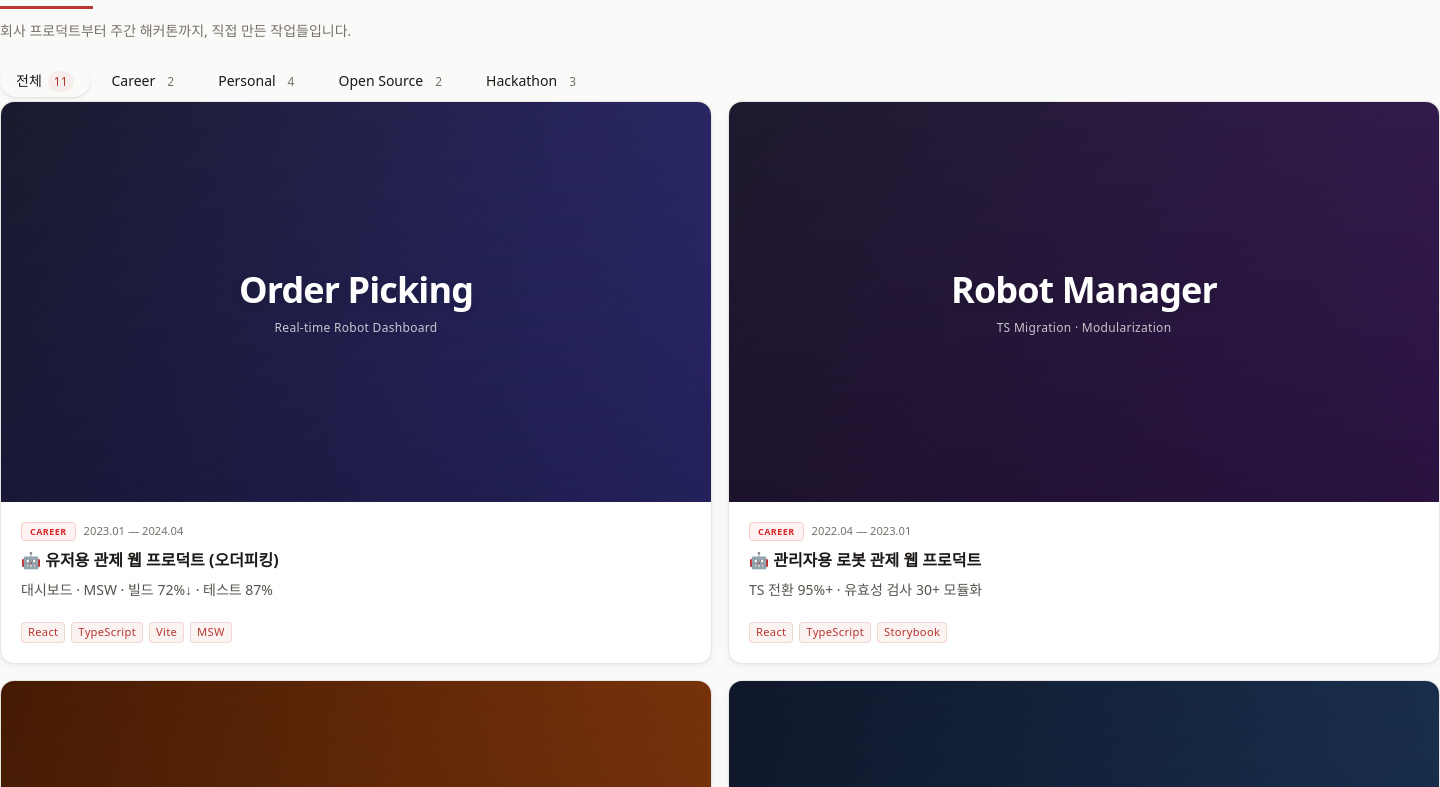
it: WorkSection › opens an internal work detail and closes it with Escape
This screenshot has width=1440, height=787.
(page scrolled)
Click the button named "🤖 유저용 관제 웹 프로덕트 (오더피킹)" at [356, 382], box [0,101,712,664]
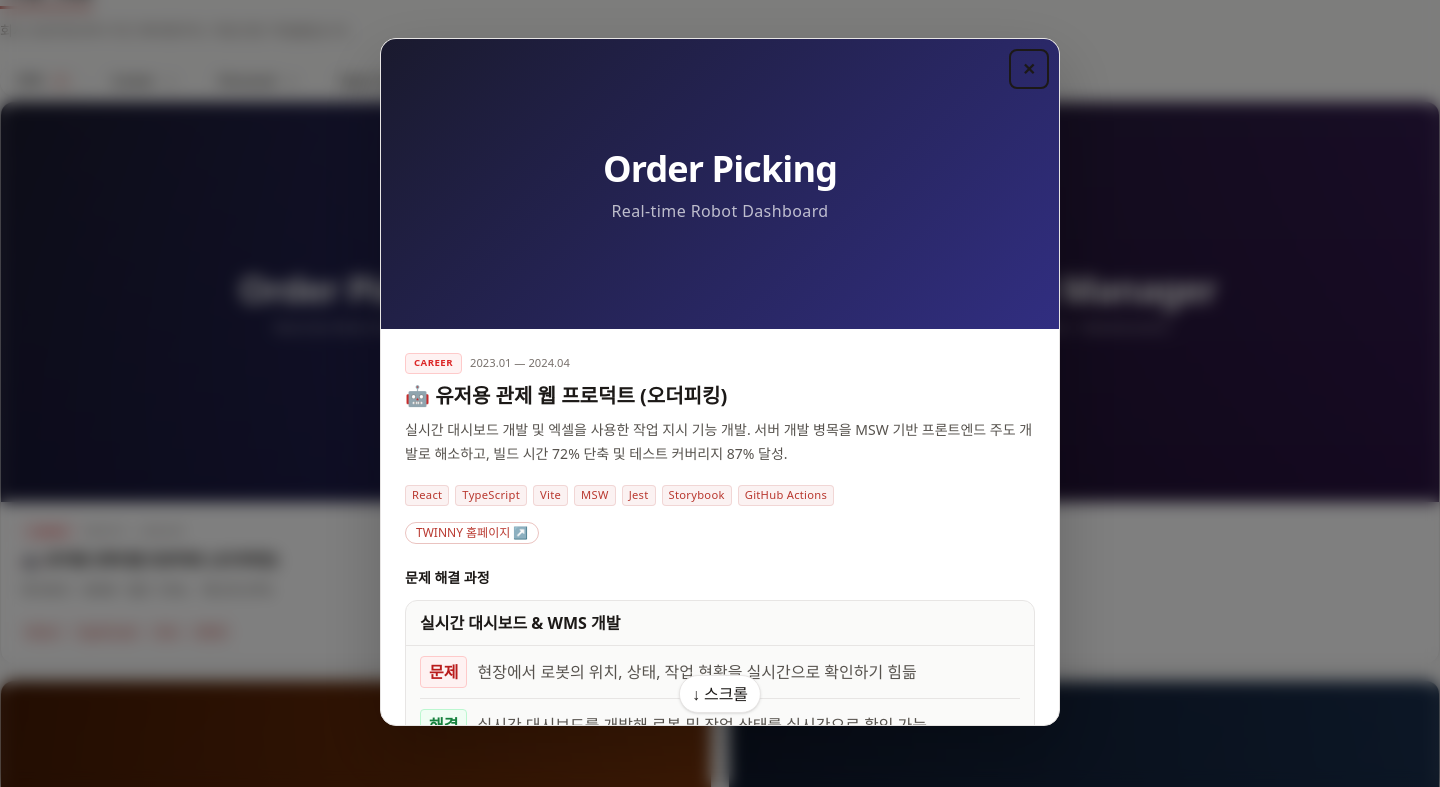
Check: the heading "🤖 유저용 관제 웹 프로덕트 (오더피킹)" is shown, box [405,382,727,409]
Press Escape
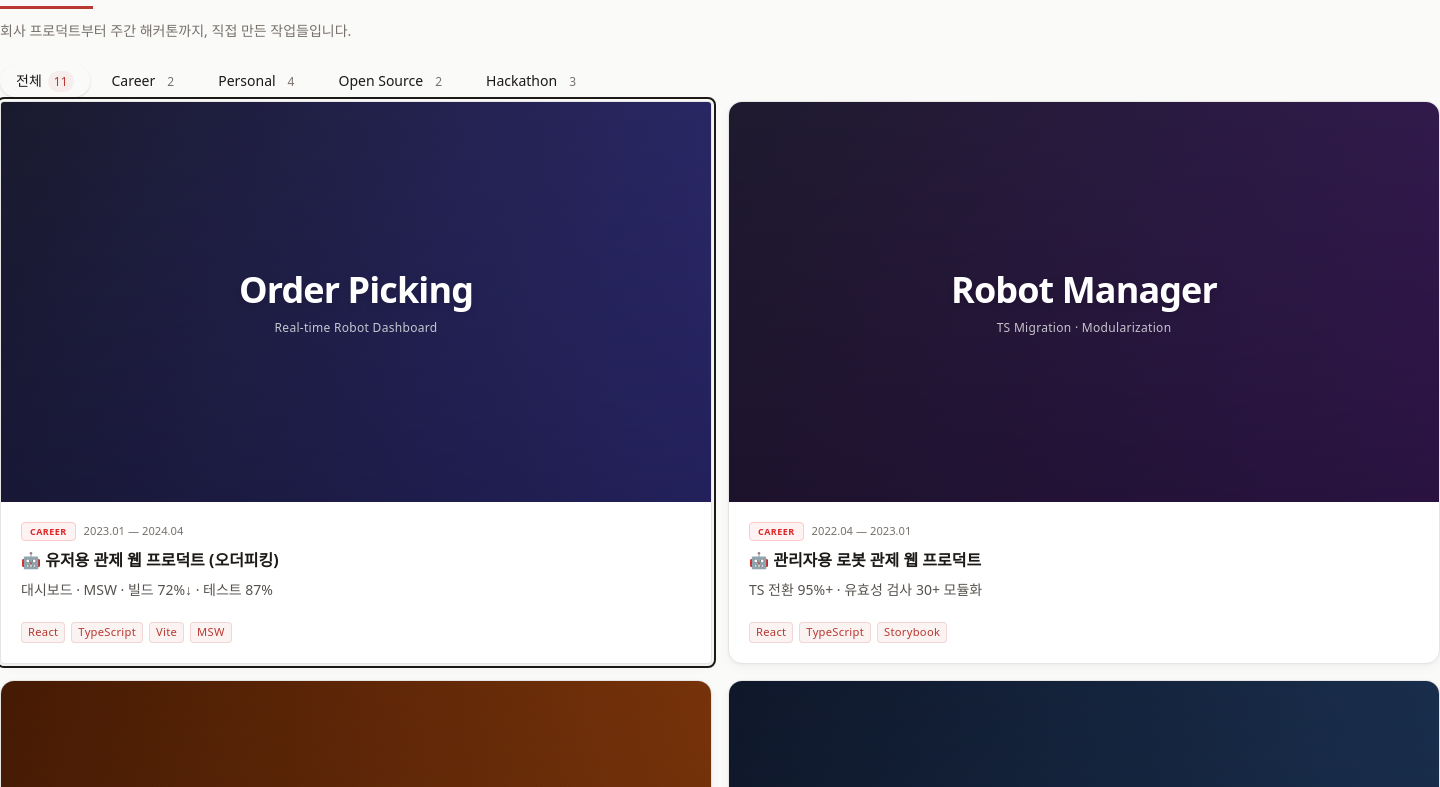
Check: the dialog is gone
